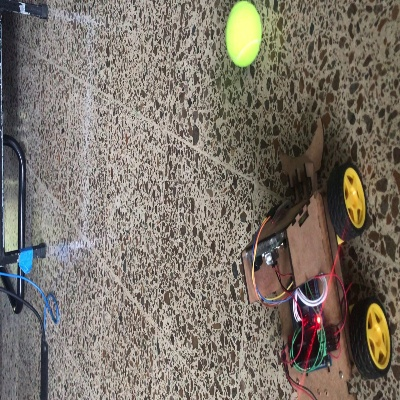Ball: (224, 0, 261, 68)
Robot: (240, 114, 391, 398)
